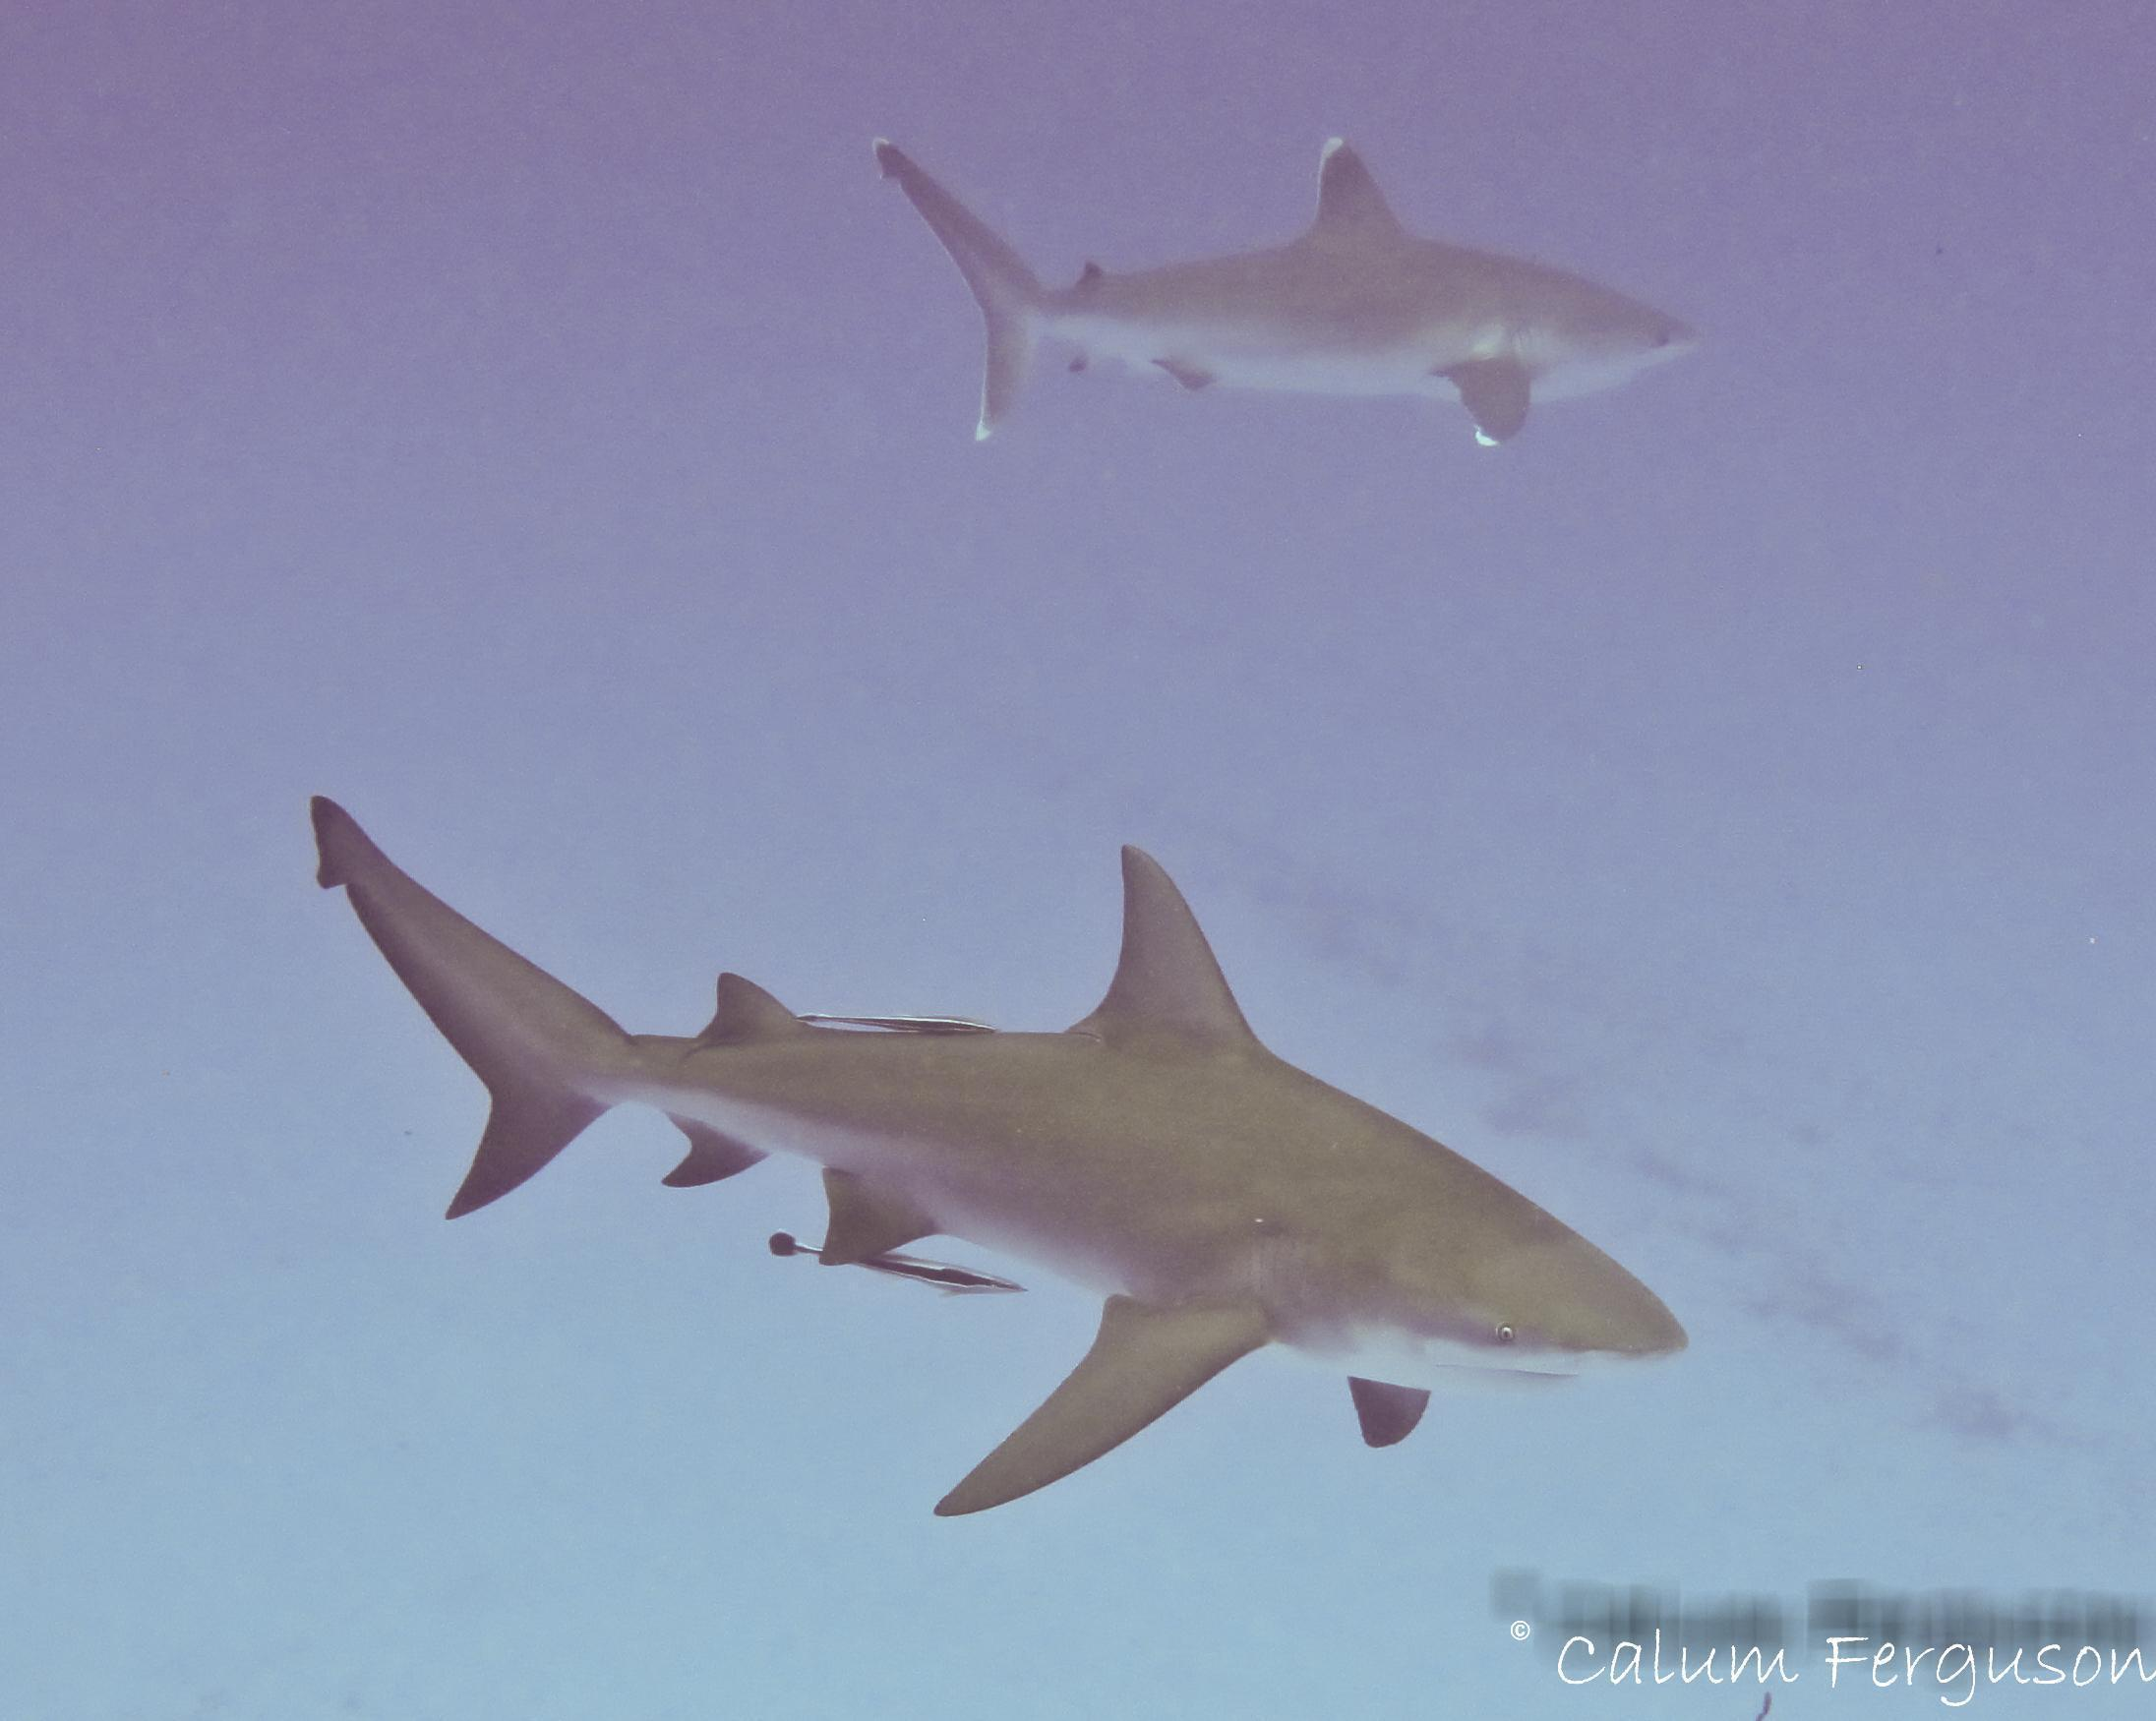Fish: (283, 797, 1689, 1524), (811, 76, 1819, 479)
